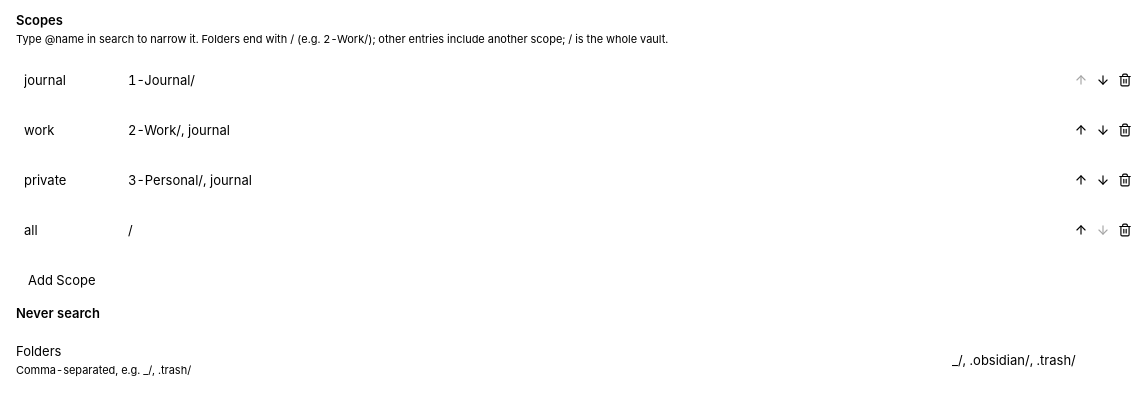
Scenario: SearchPage › scopes › ignores an emptied name
Step 1. Clear the 1st field named "Scope name" → (64, 80), box [16,69,112,91]
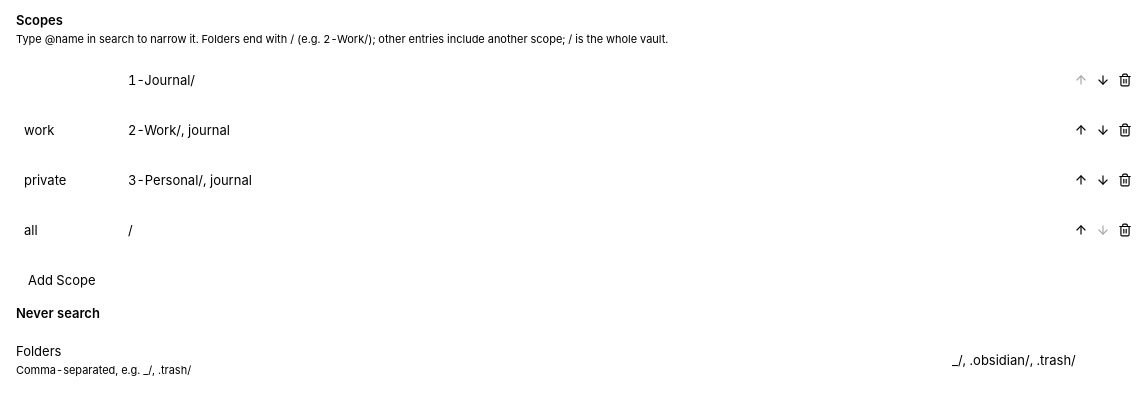
Step 2. Press Tab
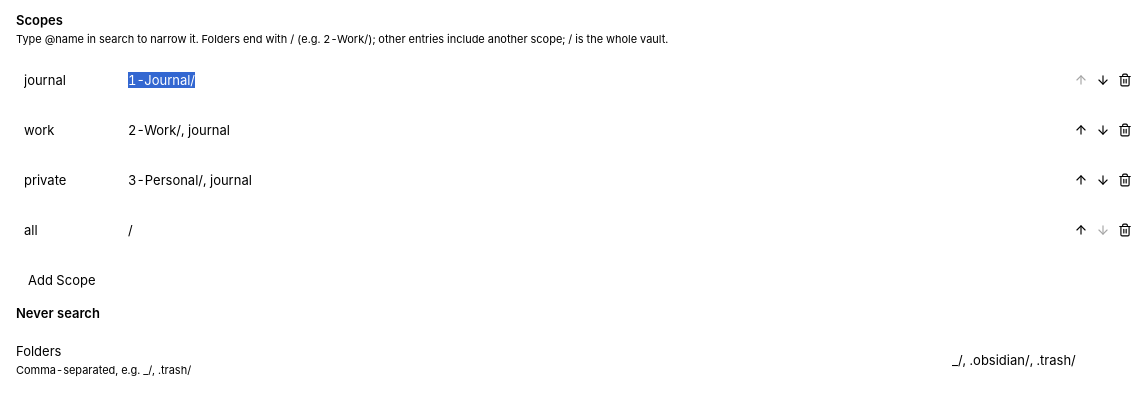
Expected: the 1st field named "Scope name" holds "journal", [16,69,112,91]
